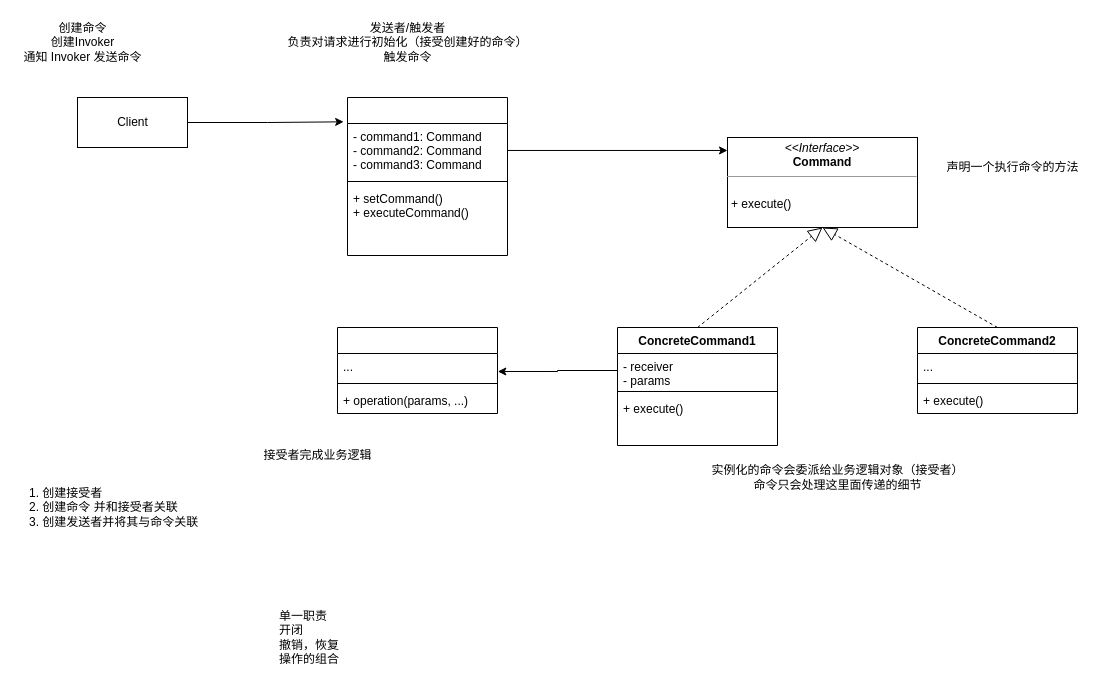
The diagram is 1104 pixels wide and 684 high, and some of its shapes have lost their labels. The shapes that lost their labels are listed below. From the top down, each one's box as (x1, y1, x2, y2) in pixels, then its label:
(346, 96, 508, 256): Invoker
(336, 326, 498, 414): Receiver
